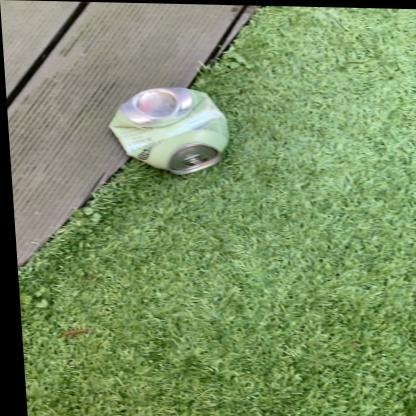trash: (110, 88, 228, 174)
